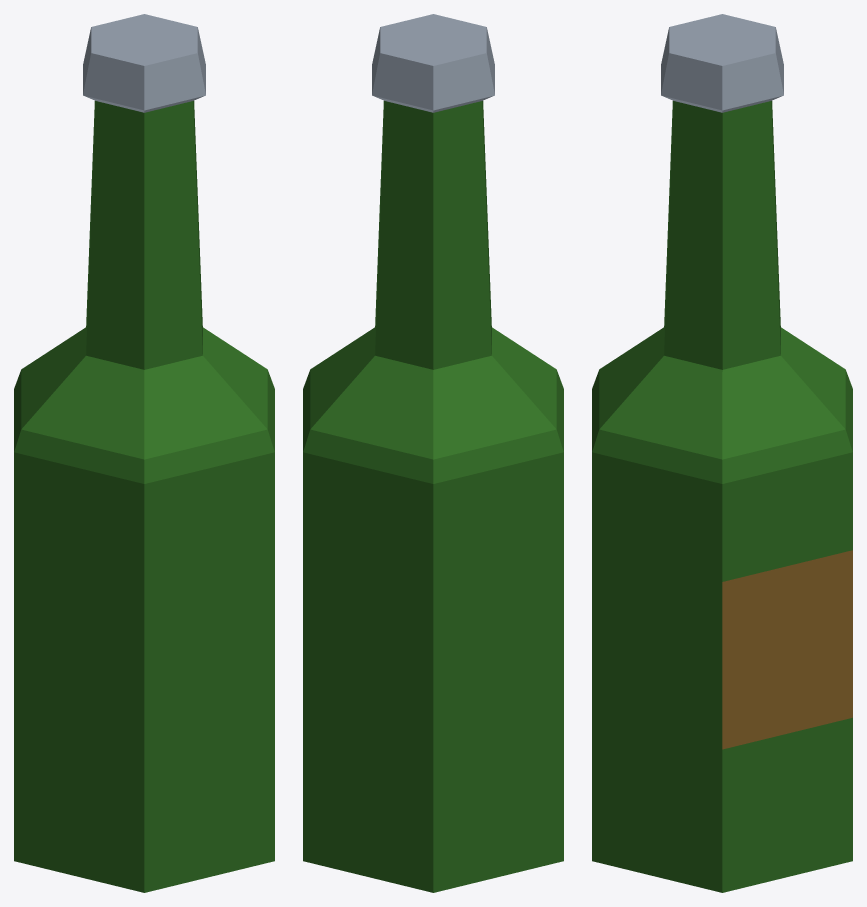
Rendered from bottle_green.fbx.
3 renders of one model, left to right at view 1: azimuth 30°, elevation 25°; view 2: azimuth 150°, elevation 25°; view 3: azimuth 270°, elevation 25°, orthographic.
Parts seen in each view (by area): view 1: bottle_green; view 2: bottle_green; view 3: bottle_green.
Boxes of the visible parts, x1=… form: bottle_green: x1=14, y1=14, x2=274, y2=892; bottle_green: x1=303, y1=14, x2=563, y2=892; bottle_green: x1=592, y1=14, x2=852, y2=892.
Bounding box in the file's own units: 0.218 × 0.6306 × 0.1888.
